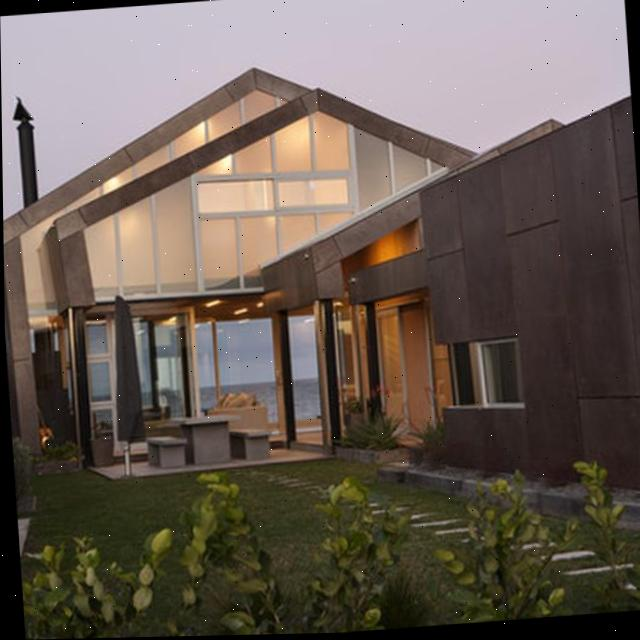building: (1, 39, 640, 551)
